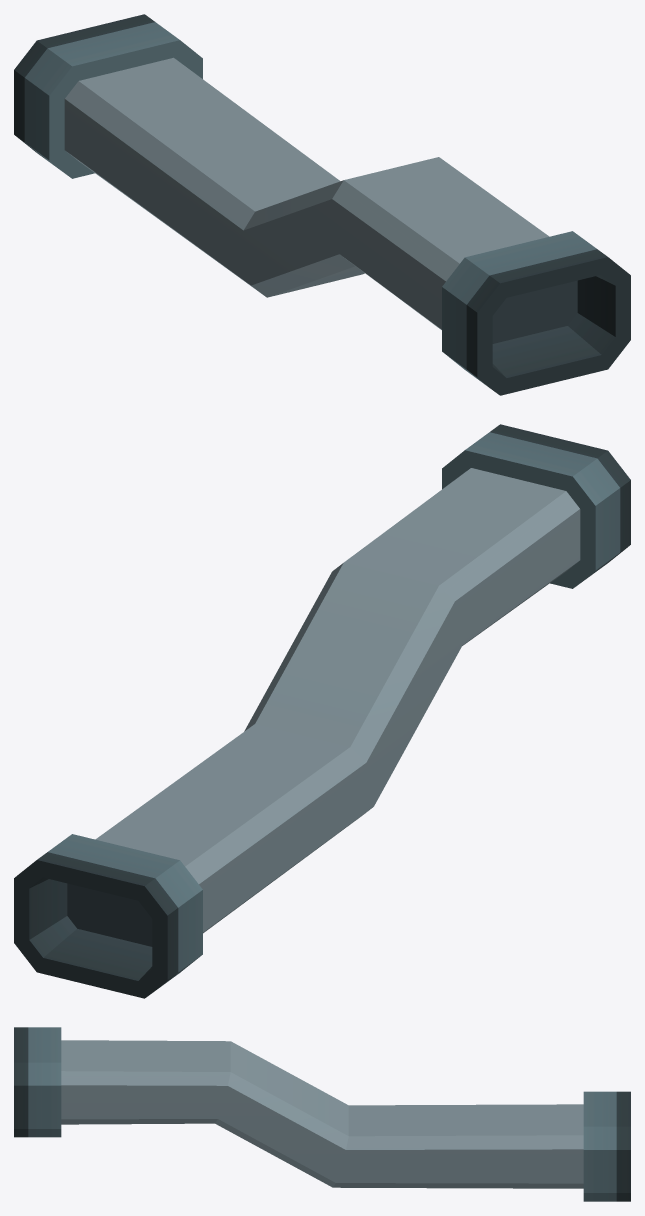
Rendered from Vent_tube_006.fbx.
3 renders of one model, top to bottom at view 1: azimuth 30°, elevation 25°; view 2: azimuth 150°, elevation 25°; view 3: azimuth 270°, elevation 25°, orthographic. The views are drawn at different scales.
Parts seen in each view (by area): view 1: Vent_tube_006; view 2: Vent_tube_006; view 3: Vent_tube_006.
Part boxes in pixels (bbox=[...]): Vent_tube_006: bbox=[14, 14, 630, 395]; Vent_tube_006: bbox=[14, 424, 630, 998]; Vent_tube_006: bbox=[14, 1027, 630, 1201].
Size of the model in its own units: 50 by 261 by 65.
